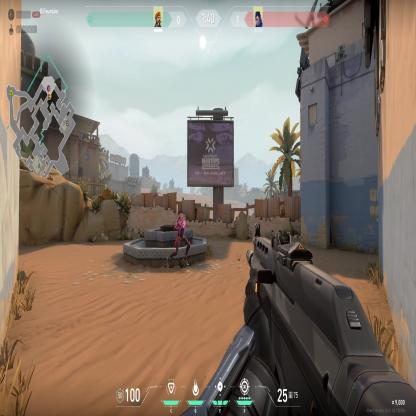enemy: (165, 208, 191, 270)
